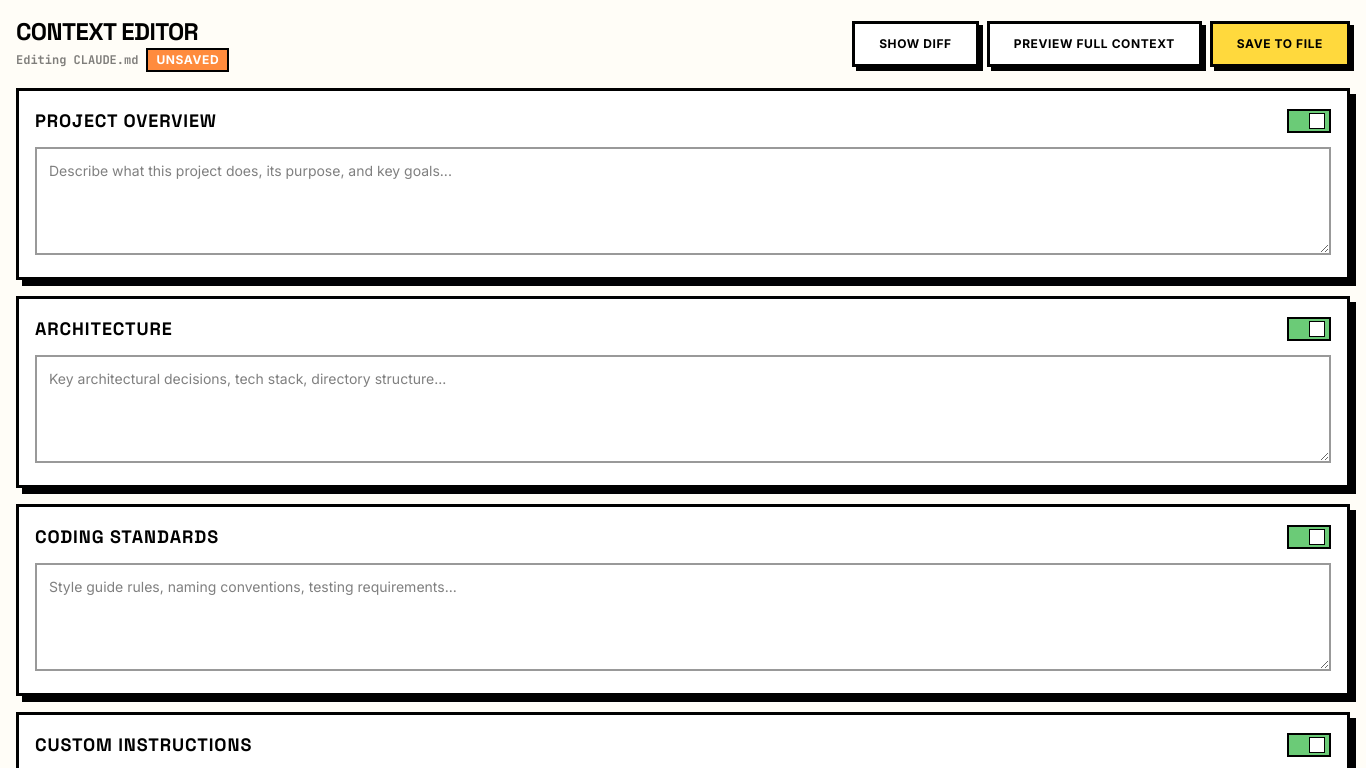
Test: ContextEditor › hides preview panel on second click
The width and height of the screenshot is (1366, 768).
Click the button "Preview Full Context" at (1094, 44), box [987,21,1202,67]
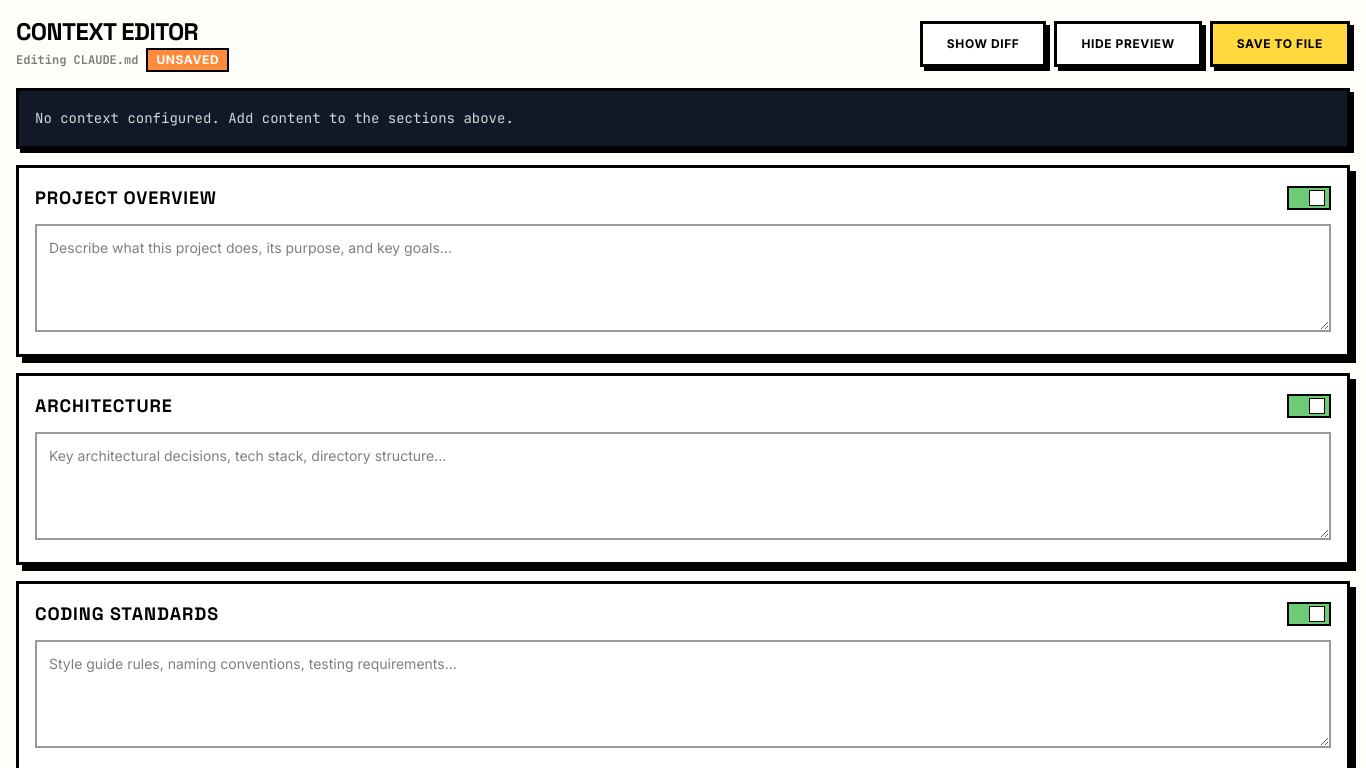
expect the element with test id "context-preview" is shown: met, box [16,88,1350,149]
Click the button "Hide Preview" at (1128, 44), box [1054,21,1202,67]
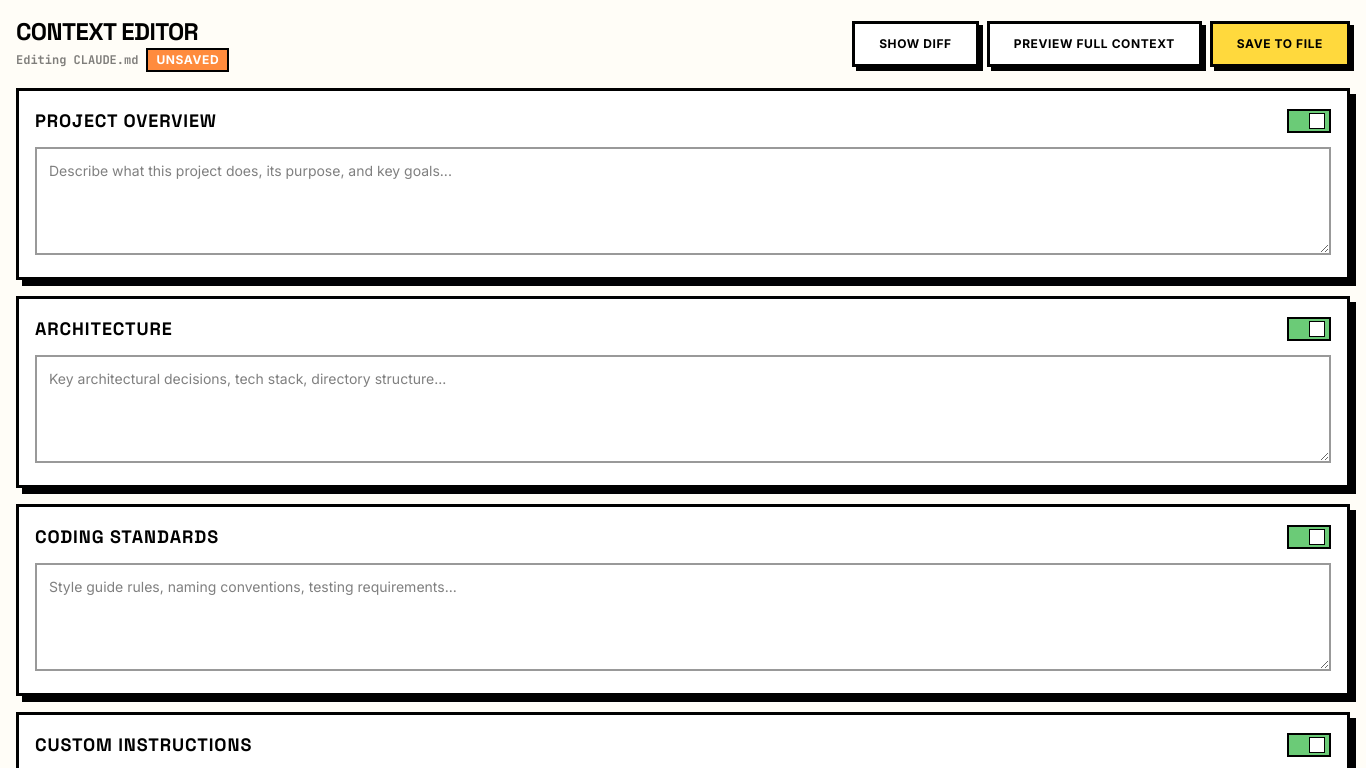
expect the element with test id "context-preview" is gone: met
